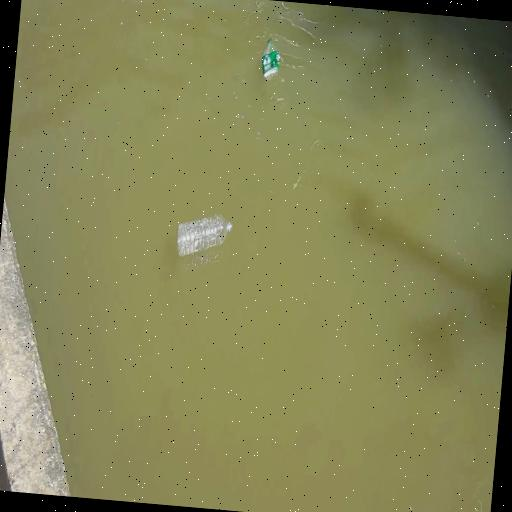plastic: (174, 208, 234, 260), (259, 36, 282, 84)
